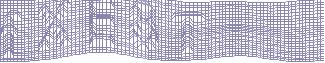8: (126, 1, 160, 52)
E: (84, 1, 117, 50)
T: (170, 10, 206, 56)
X: (35, 1, 74, 52)
f: (1, 8, 25, 60)
